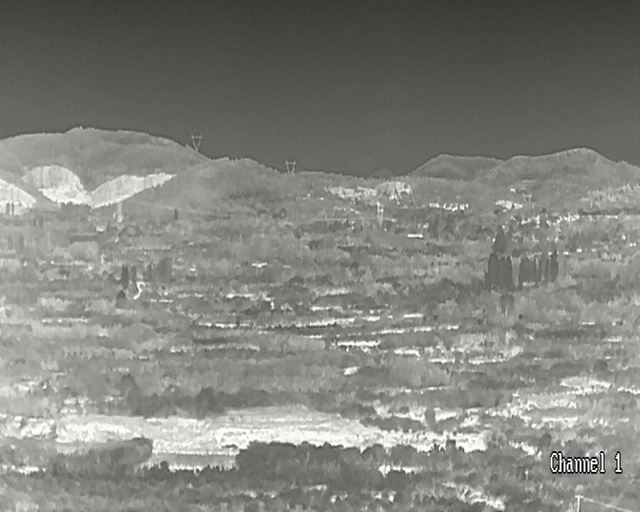uav: (251, 262, 266, 267)
